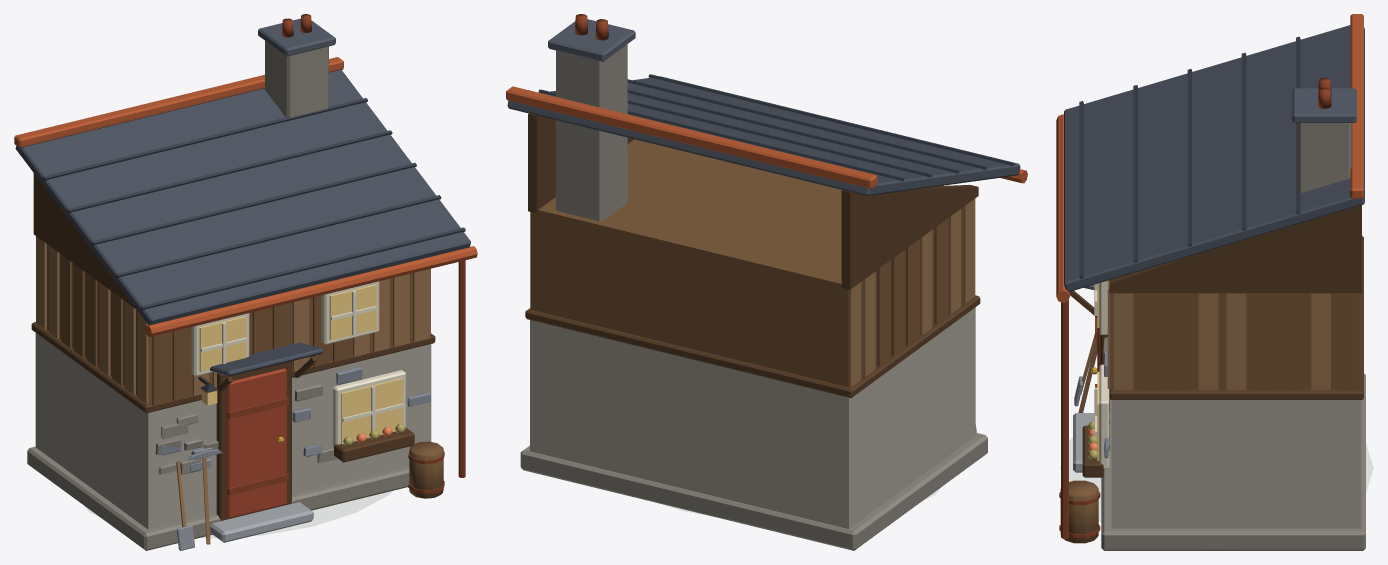
Rendered from terrace_house.glb.
3 renders of one model, left to right at view 1: azimuth 30°, elevation 25°; view 2: azimuth 150°, elevation 25°; view 3: azimuth 270°, elevation 25°, orthographic. The views are drawn at different scales.
Parts seen in each view (by area): view 1: terrace_house, door; view 2: terrace_house; view 3: terrace_house.
Part boxes in pixels (left/top/right/bottom): terrace_house: left=14, top=14, right=477, bottom=550; door: left=226, top=368, right=288, bottom=518; terrace_house: left=506, top=14, right=1027, bottom=550; terrace_house: left=1056, top=14, right=1365, bottom=550.
Size of the model in its own units: 4.26 by 4.98 by 3.24.
